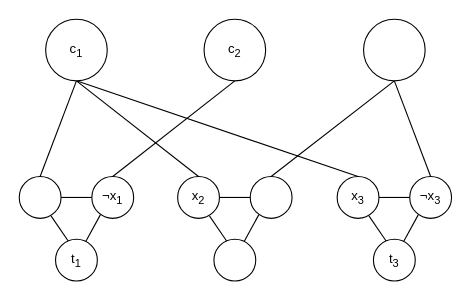
Some shapes in this 471 by 300 pixel diagram are drawn without their labels. The centre of each missing label's shape, as x and y in pixels:
"c 3" goes at [393,49].
"t 2" goes at [234,259].
"x 1" goes at [39,196].
"¬x 2" goes at [270,196].
